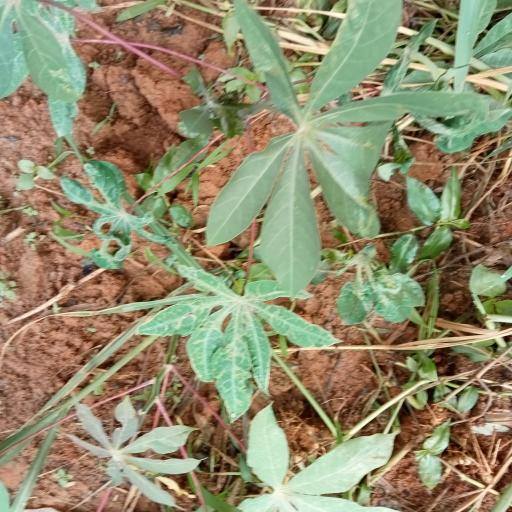Cassava_Mosaic: (220, 5, 402, 283), (154, 262, 337, 408), (74, 408, 194, 508)
